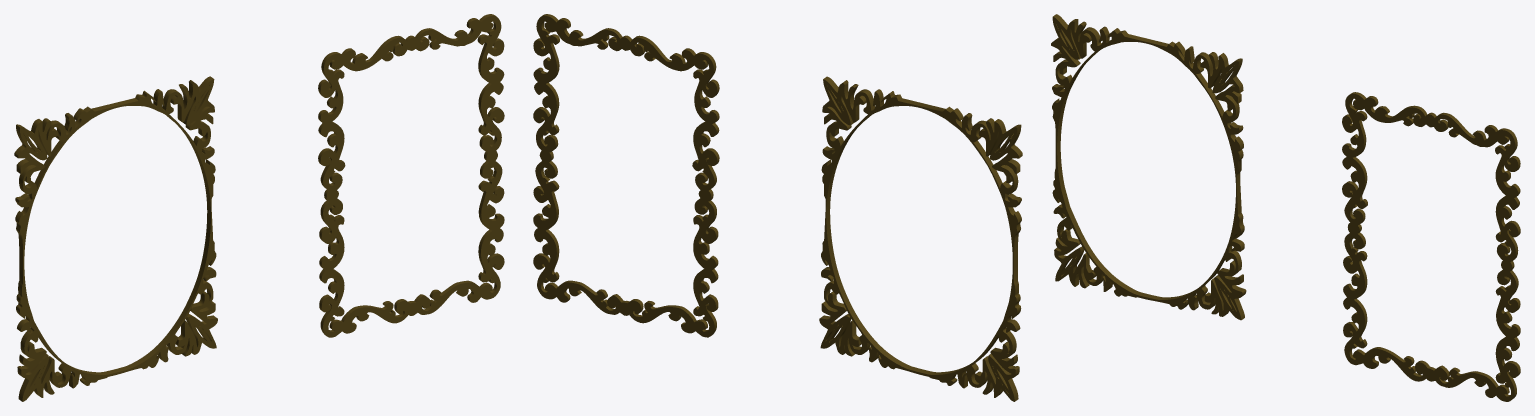
Rendered from frames.fbx.
3 views of the same model, side by side, from view 1: azimuth 30°, elevation 25°; view 2: azimuth 150°, elevation 25°; view 3: azimuth 330°, elevation 25° (orthographic). The views are drawn at different scales.
Parts seen in each view (by area): view 1: 3_1_6, 1_2_6; view 2: 3_1_6, 1_2_6; view 3: 3_1_6, 1_2_6.
Part boxes in pixels (x1,y1,x2,y2): 3_1_6: (318,14,504,337); 1_2_6: (14,76,217,401); 3_1_6: (533,14,719,337); 1_2_6: (819,76,1022,401); 3_1_6: (1342,92,1520,401); 1_2_6: (1051,14,1246,320).
Bounding box in the file's own units: 229 × 131 × 3.14.
